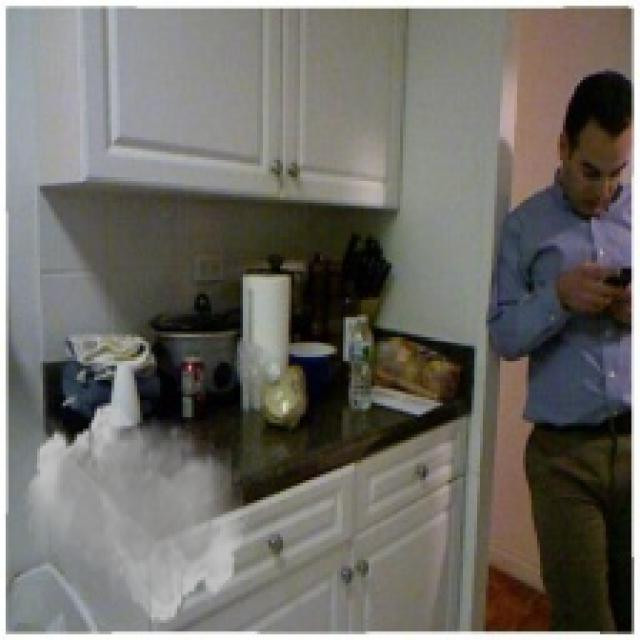smoke: (23, 400, 248, 626)
